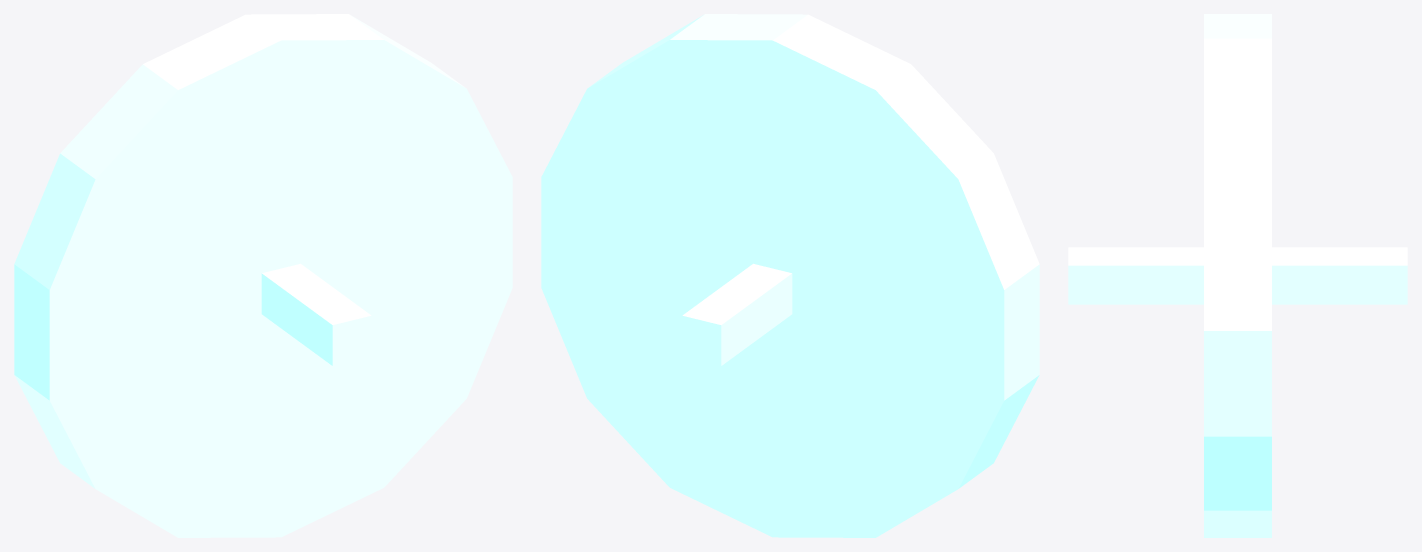
The model's file is interact_buff_shield.glb.
The picture shows the model from 3 angles, left to right: view 1: azimuth 30°, elevation 25°; view 2: azimuth 150°, elevation 25°; view 3: azimuth 270°, elevation 25°; orthographic projection. The views are drawn at different scales.
Visible parts, largest first — view 1: interact_buff_shield; view 2: interact_buff_shield; view 3: interact_buff_shield.
Part boxes in pixels (x1,y1,x2,y2): interact_buff_shield: (14, 14, 512, 537); interact_buff_shield: (541, 14, 1039, 537); interact_buff_shield: (1068, 14, 1407, 537).
Size of the model in its own units: 1.66 by 1.7 by 1.1.
